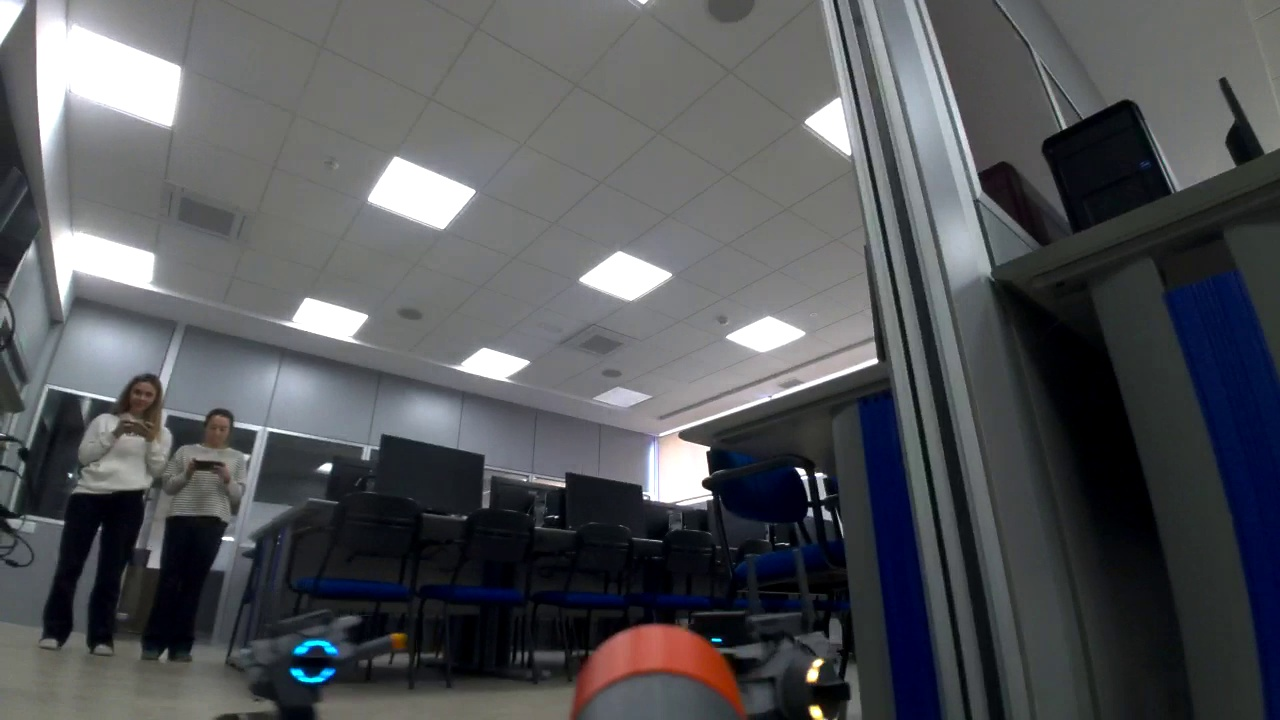robot: (213, 609, 410, 720)
